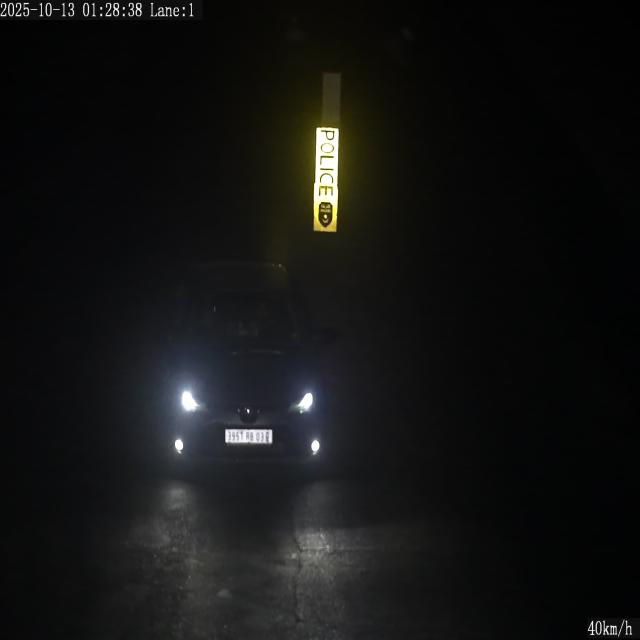BUS: (225, 429, 272, 444)
